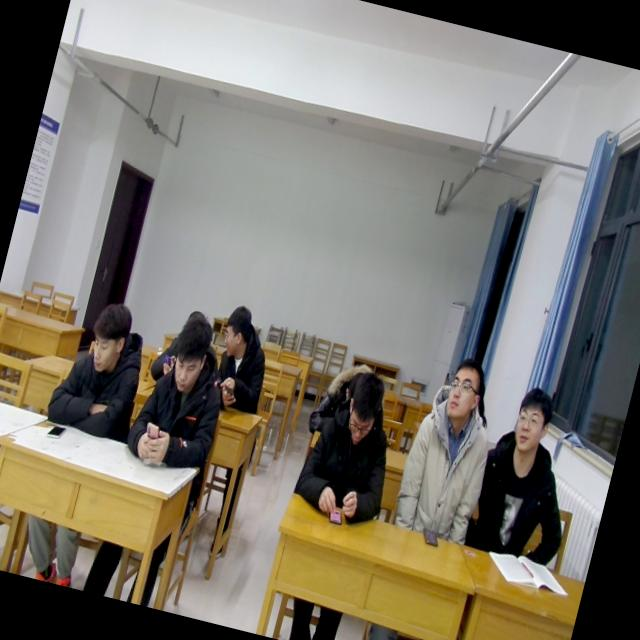bow: (306, 352, 374, 444)
down: (162, 308, 220, 404), (80, 296, 138, 384), (335, 364, 390, 454)
lookup: (502, 380, 559, 464), (436, 350, 490, 432)
sit: (388, 343, 515, 549), (462, 379, 598, 568), (120, 304, 241, 479), (292, 360, 412, 528), (42, 294, 158, 444), (204, 300, 282, 419)
